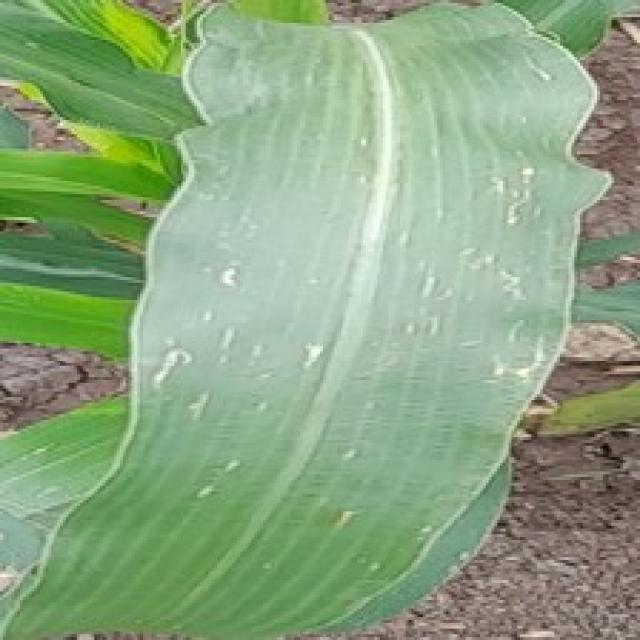Corn: (0, 0, 614, 637), (0, 0, 200, 140), (474, 0, 637, 57)
